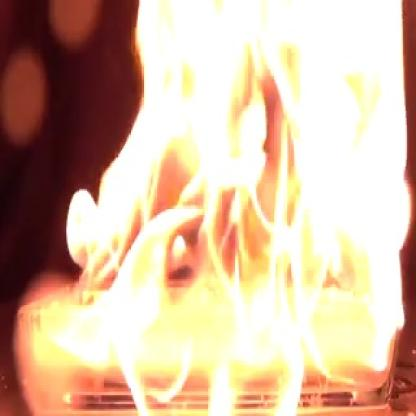fire: (54, 0, 416, 416)
